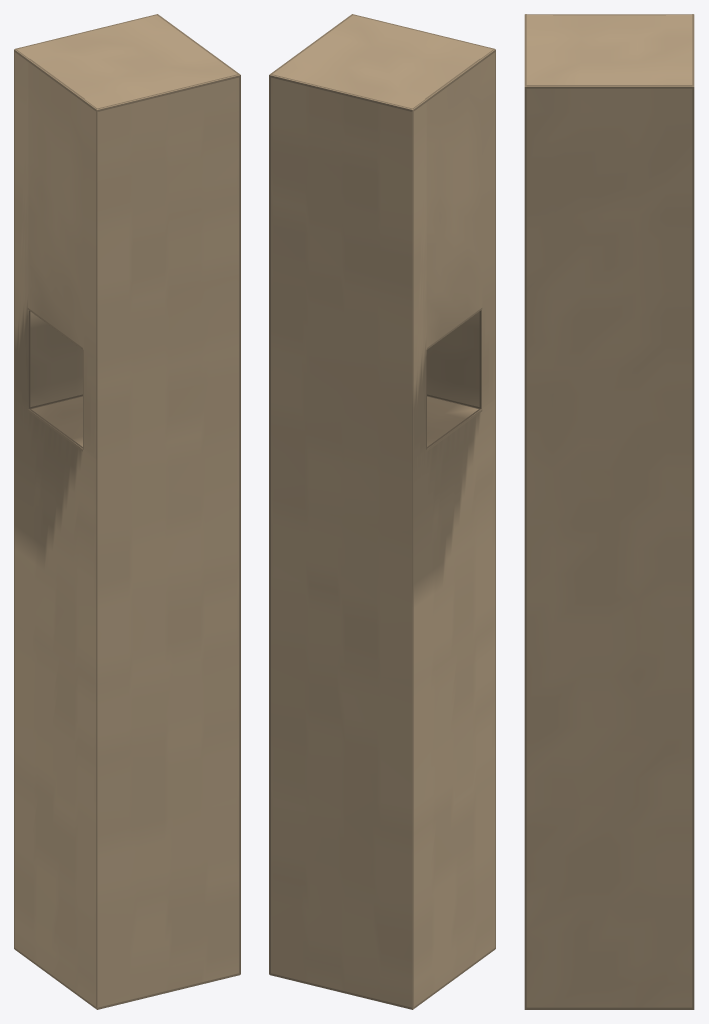
3 renders of one model, left to right at view 1: azimuth 30°, elevation 25°; view 2: azimuth 150°, elevation 25°; view 3: azimuth 270°, elevation 25°, orthographic. The views are drawn at different scales.
Visible parts, largest first — view 1: part-a; view 2: part-a; view 3: part-a.
Part boxes in pixels (x1,y1,x2,y2): part-a: (14, 14, 240, 1009); part-a: (269, 14, 495, 1009); part-a: (524, 14, 694, 1009).
Bounding box in the file's own units: 0.1209 × 0.7208 × 0.1208.
